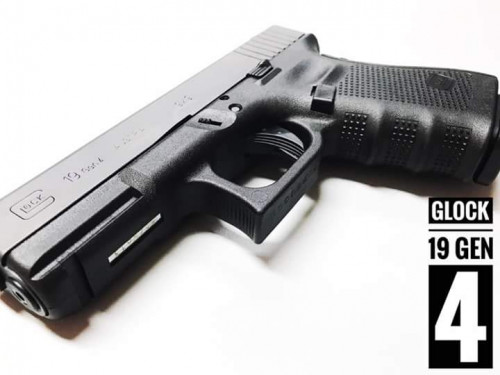gun: (1, 20, 500, 335)
